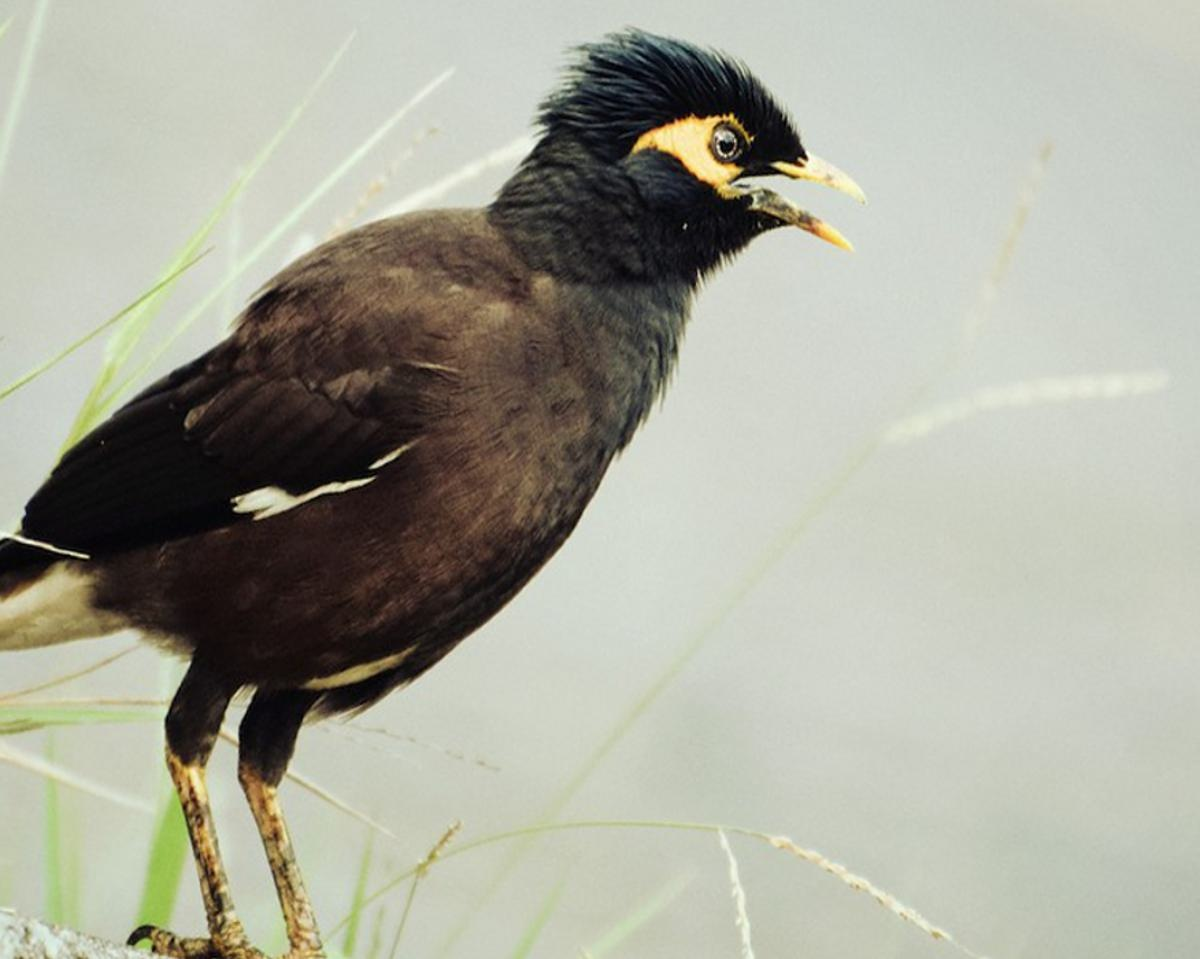myna: (1, 50, 901, 823)
